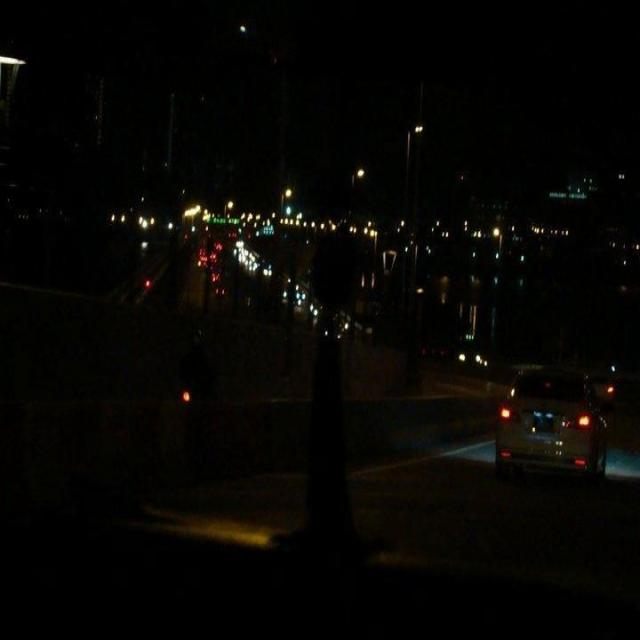Car: (512, 298, 618, 528)
